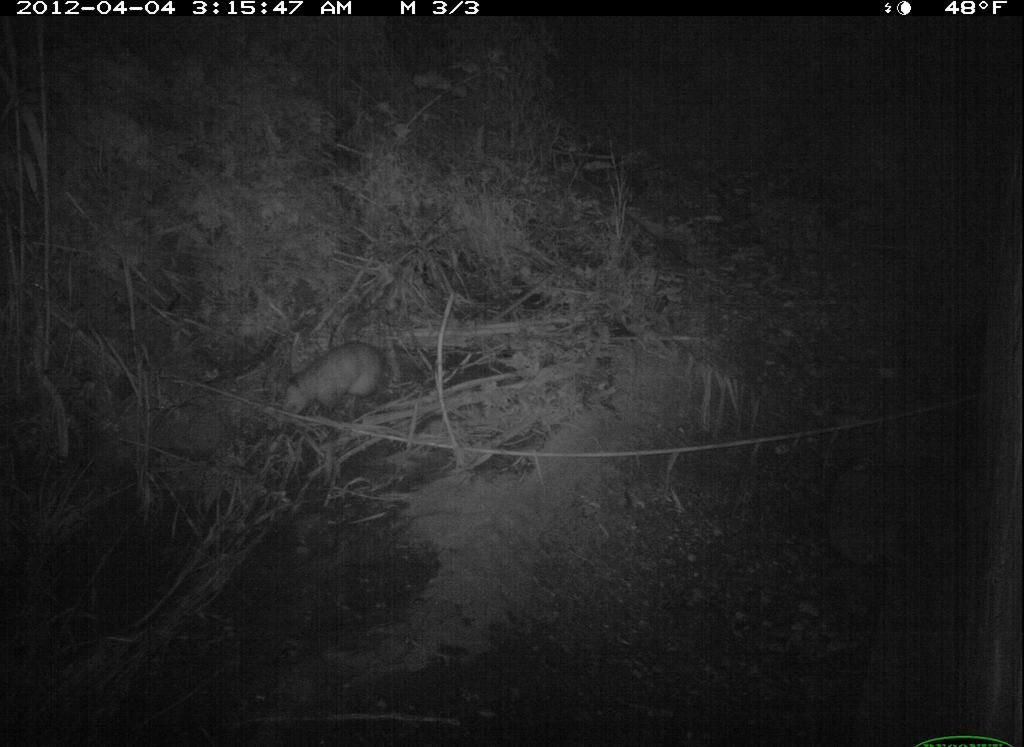opossum: (273, 331, 411, 425)
